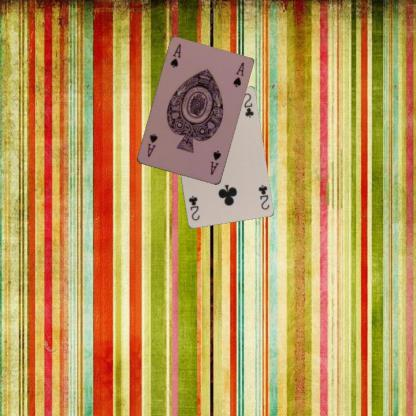2c: (256, 182, 270, 211)
As: (208, 148, 222, 177), (168, 42, 182, 69)
